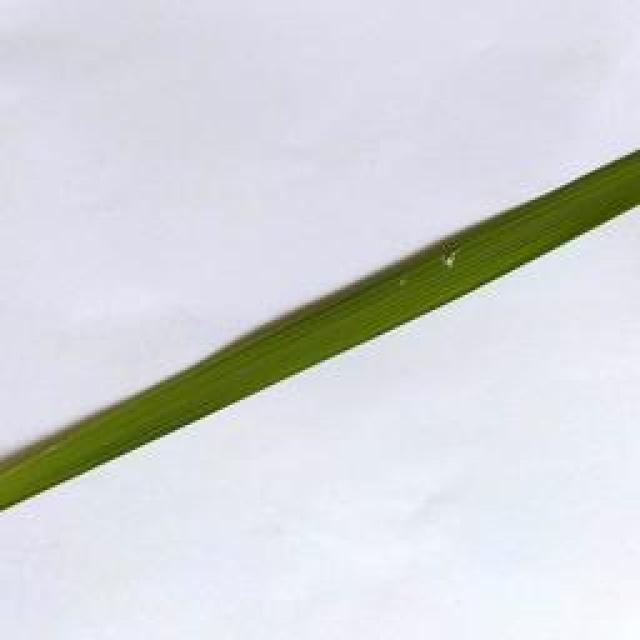Healthy-Plant: (0, 150, 640, 515)
